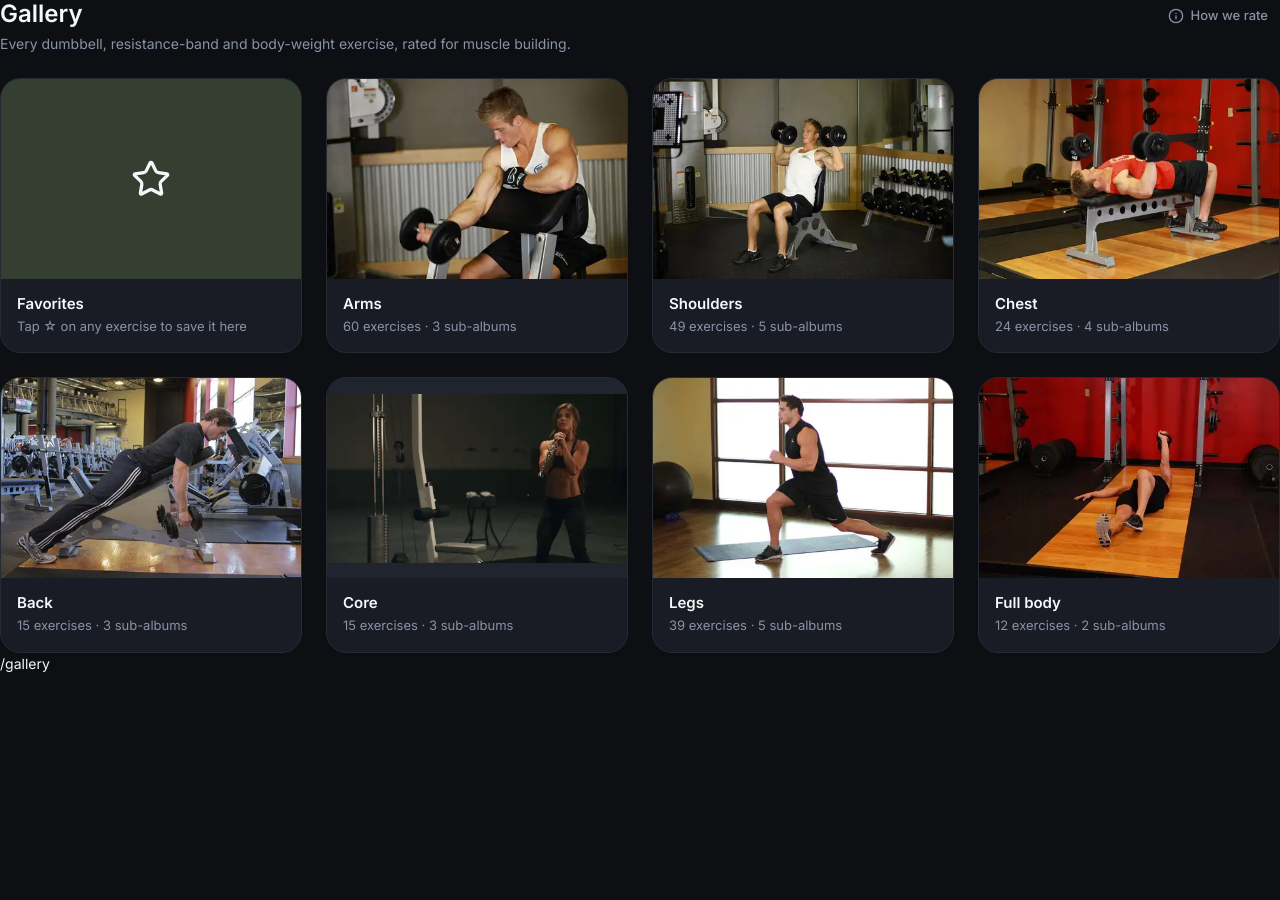
Test case: Gallery home › opens the "How we rate" sheet with the scale and source links
Click the button "How we rate" at point(1218, 16), box [1156,0,1279,32]
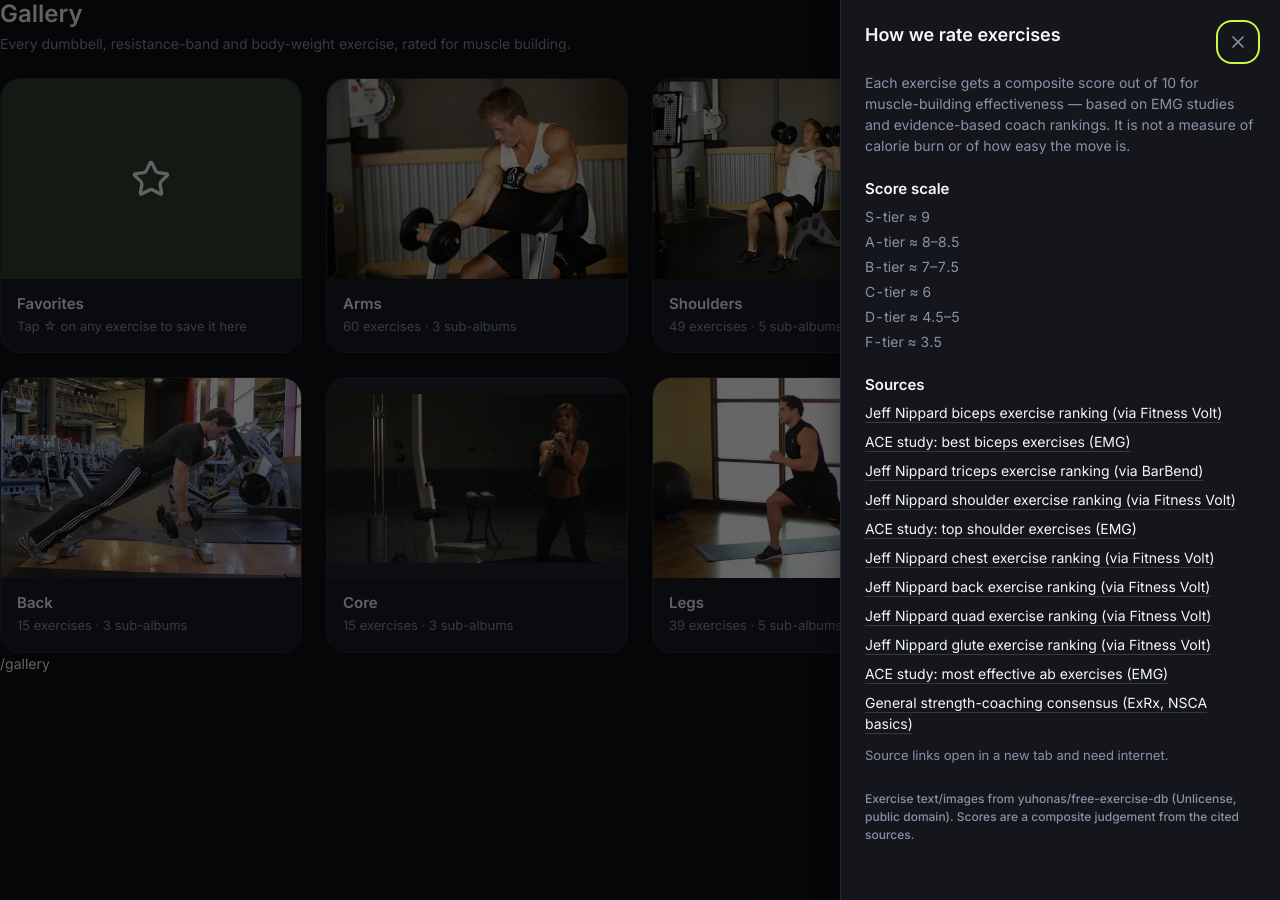
Check: the list item "S-tier ≈ 9" is shown, box [865,208,930,225]
Press Escape
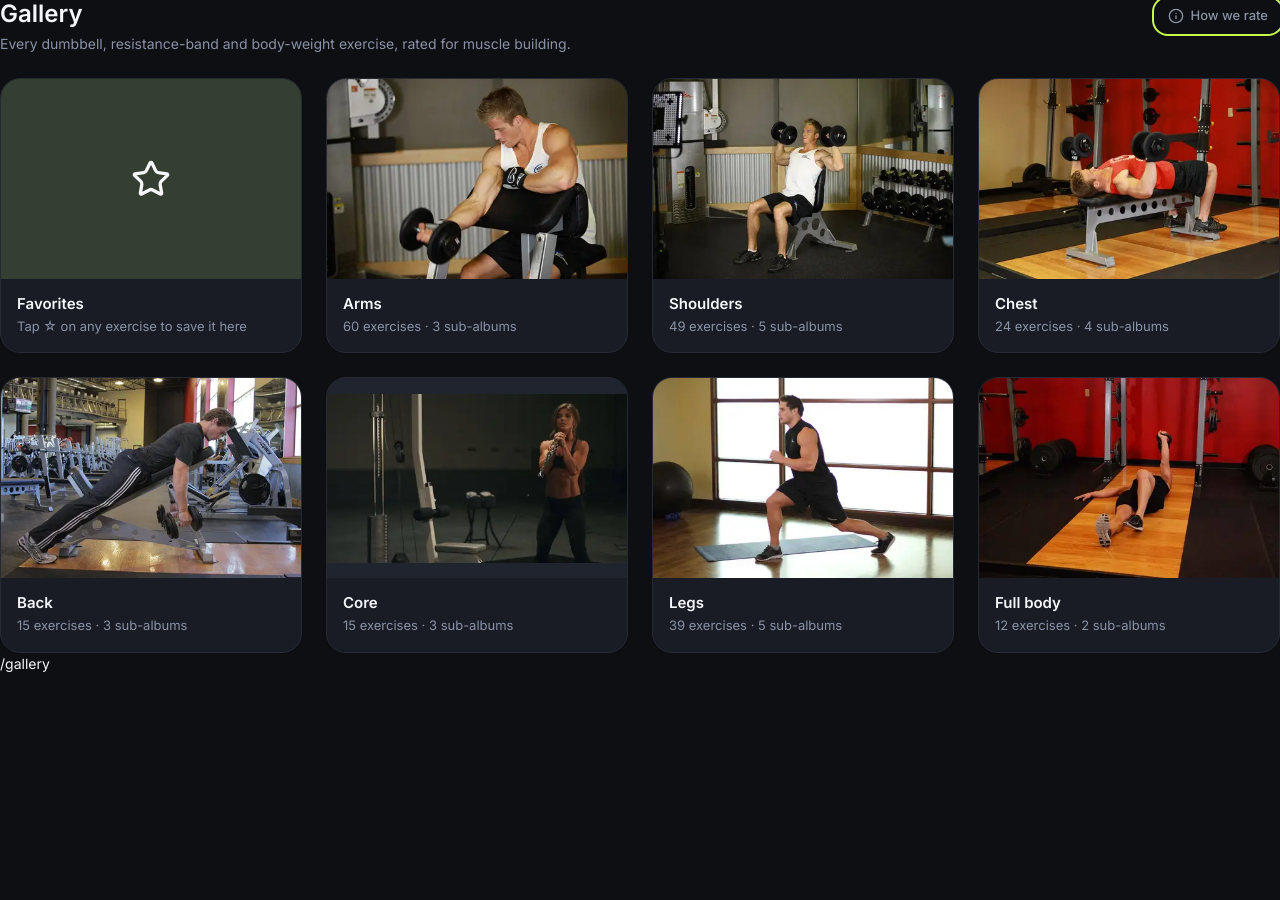
Check: the dialog is gone
